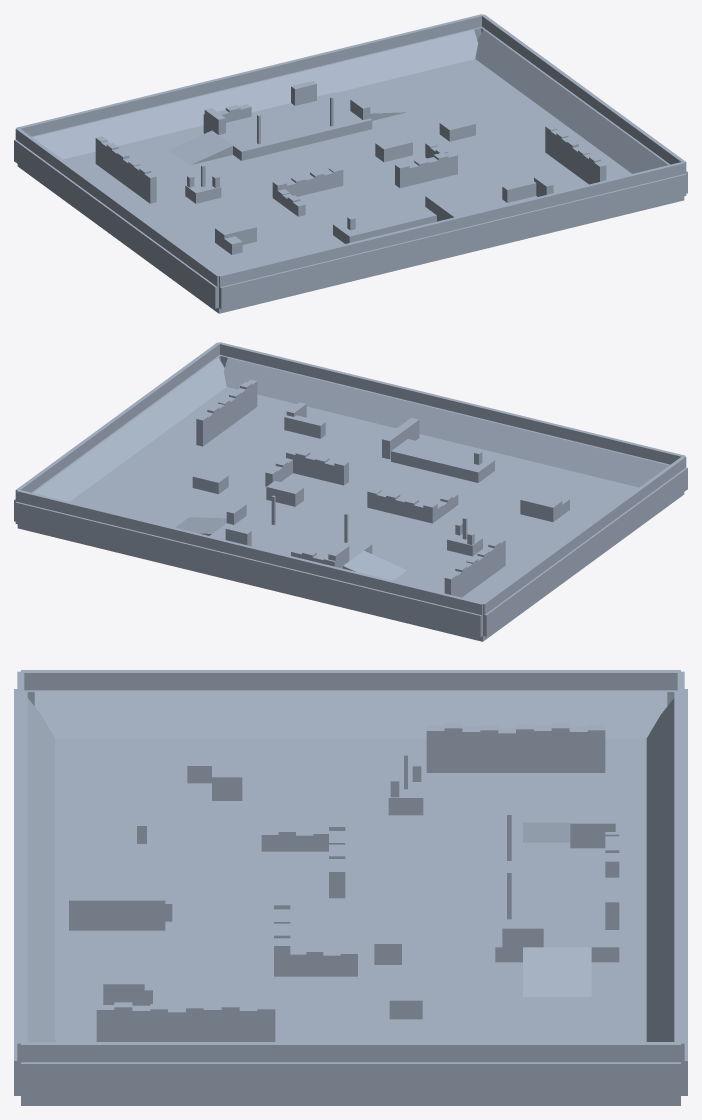
File: camlann_collision.glb
The picture shows the model from 3 angles, top to bottom: view 1: azimuth 30°, elevation 25°; view 2: azimuth 150°, elevation 25°; view 3: azimuth 270°, elevation 25°; orthographic projection. The views are drawn at different scales.
Visible parts, largest first — view 1: COL_battlefield_floor, COL_turf_berm_z_-1, COL_earthbank_z_24, COL_turf_berm_x_1, COL_crest_palisade_z_24, COL_crest_palisade_z_-24, COL_hall_foundation, COL_earthbank_x_-32, COL_crest_palisade_x_-32, COL_crest_palisade_x_32, COL_southern_bank, COL_foundation_ramp_-1 (+10 smaller); view 2: COL_battlefield_floor, COL_turf_berm_z_1, COL_earthbank_z_-24, COL_turf_berm_x_1, COL_crest_palisade_z_-24, COL_crest_palisade_z_24, COL_earthbank_x_-32, COL_hall_foundation, COL_crest_palisade_x_-32, COL_crest_palisade_x_32, COL_southern_bank, COL_foundation_ramp_-1 (+9 smaller); view 3: COL_battlefield_floor, COL_turf_berm_x_-1, COL_earthbank_x_32, COL_crest_palisade_x_32, COL_crest_palisade_x_-32, COL_hall_foundation, COL_turf_berm_z_-1, COL_turf_berm_z_1, COL_palisade_stump, COL_southern_bank, COL_foundation_ramp_1, COL_earthbank_z_-24 (+35 smaller).
Boxes of the visible parts, <box> form: COL_battlefield_floor: <box>17,59,684,313</box>; COL_turf_berm_z_-1: <box>33,30,478,159</box>; COL_earthbank_z_24: <box>219,173,686,309</box>; COL_turf_berm_x_1: <box>475,29,668,173</box>; COL_crest_palisade_z_24: <box>218,162,685,287</box>; COL_crest_palisade_z_-24: <box>16,14,482,136</box>; COL_hall_foundation: <box>203,92,372,160</box>; COL_earthbank_x_-32: <box>14,139,218,308</box>; COL_crest_palisade_x_-32: <box>15,128,219,286</box>; COL_crest_palisade_x_32: <box>481,14,686,172</box>; COL_southern_bank: <box>333,203,436,243</box>; COL_foundation_ramp_-1: <box>169,130,232,165</box>; COL_battlefield_floor: <box>17,387,684,641</box>; COL_turf_berm_z_1: <box>223,358,668,487</box>; COL_earthbank_z_-24: <box>15,501,482,637</box>; COL_turf_berm_x_1: <box>33,357,226,501</box>; COL_crest_palisade_z_-24: <box>16,490,483,615</box>; COL_crest_palisade_z_24: <box>219,342,685,464</box>; COL_earthbank_x_-32: <box>483,467,687,636</box>; COL_hall_foundation: <box>210,514,372,568</box>; COL_crest_palisade_x_-32: <box>482,456,686,614</box>; COL_crest_palisade_x_32: <box>15,342,220,500</box>; COL_southern_bank: <box>391,439,494,482</box>; COL_foundation_ramp_-1: <box>343,550,407,580</box>; COL_battlefield_floor: <box>21,738,680,1105</box>; COL_turf_berm_x_-1: <box>34,692,667,738</box>; COL_earthbank_x_32: <box>21,1062,680,1098</box>; COL_crest_palisade_x_32: <box>21,1042,680,1062</box>; COL_crest_palisade_x_-32: <box>21,670,680,690</box>; COL_hall_foundation: <box>495,842,619,962</box>; COL_turf_berm_z_-1: <box>646,698,674,1041</box>; COL_turf_berm_z_1: <box>27,698,55,1041</box>; COL_palisade_stump: <box>69,894,165,930</box>; COL_southern_bank: <box>117,834,172,921</box>; COL_foundation_ramp_1: <box>523,947,591,996</box>; COL_earthbank_z_-24: <box>674,689,687,1095</box>.
Bounding box in the file's own units: 65 × 5.7 × 49.
